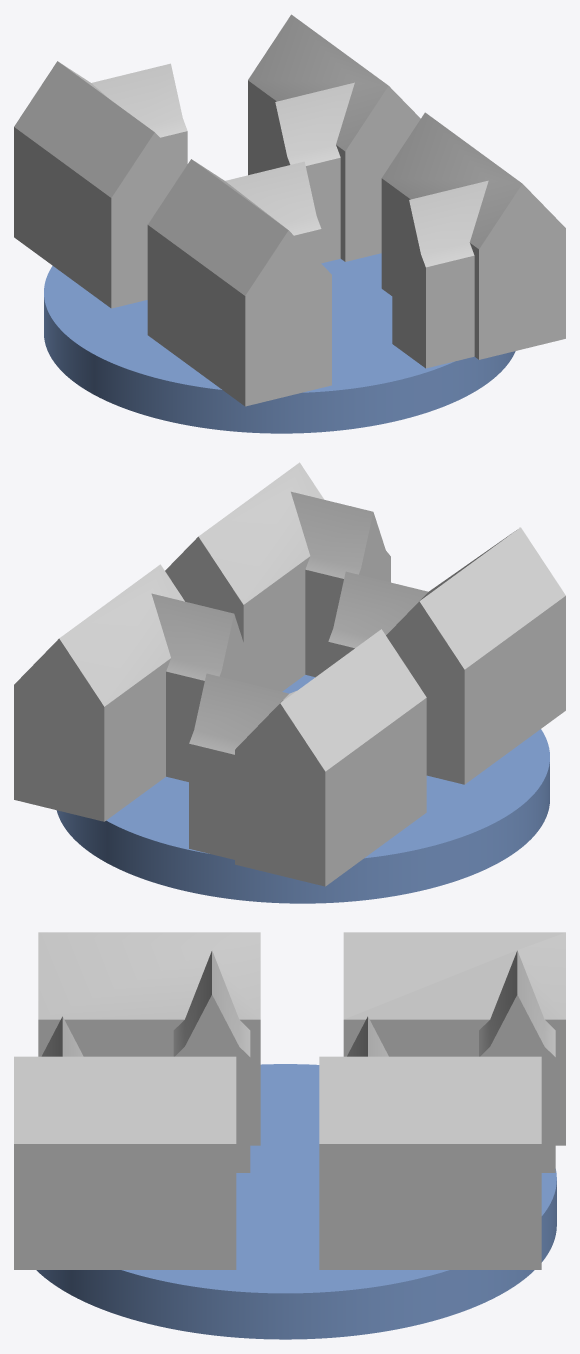
Rendered from BLUE.gltf.
3 views of the same model, one above another, from view 1: azimuth 30°, elevation 25°; view 2: azimuth 150°, elevation 25°; view 3: azimuth 270°, elevation 25° (orthographic). The views are drawn at different scales.
Visible parts, largest first — view 1: Part 1 (×2), Part 3, Part 2, Part 4; view 2: Part 1 (×2), Part 2, Part 4, Part 3; view 3: Part 1 (×2), Part 4, Part 3, Part 2.
Part boxes in pixels (box(x1,y1,x2,y2)): Part 1 (×2): box(44, 159, 515, 433); Part 3: box(381, 112, 565, 368); Part 2: box(14, 61, 187, 308); Part 4: box(248, 14, 420, 263); Part 1 (×2): box(56, 527, 565, 903); Part 2: box(189, 629, 426, 886); Part 4: box(14, 564, 251, 821); Part 3: box(165, 462, 390, 691); Part 1 (×2): box(36, 932, 556, 1339); Part 4: box(319, 1016, 541, 1269); Part 3: box(14, 1016, 236, 1269); Part 2: box(343, 932, 565, 1172).
Bounding box in the file's own units: 0.032 × 0.0154 × 0.0325.
